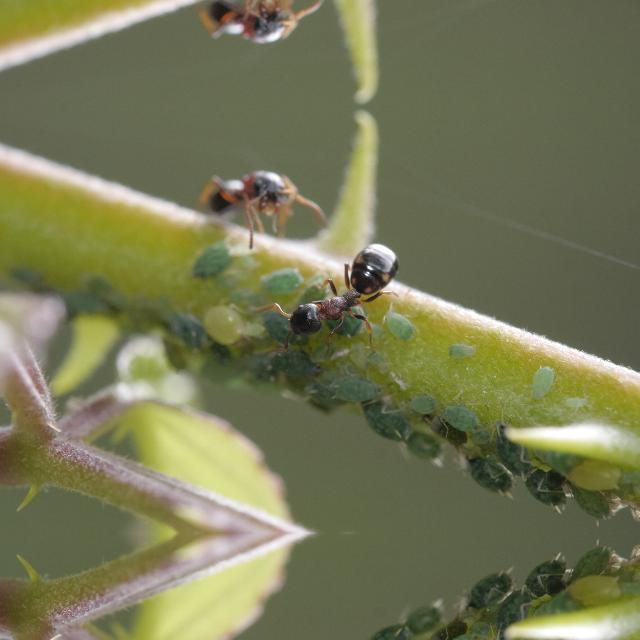Dolichoderus: (260, 234, 422, 352), (186, 153, 322, 241), (186, 0, 322, 58)
